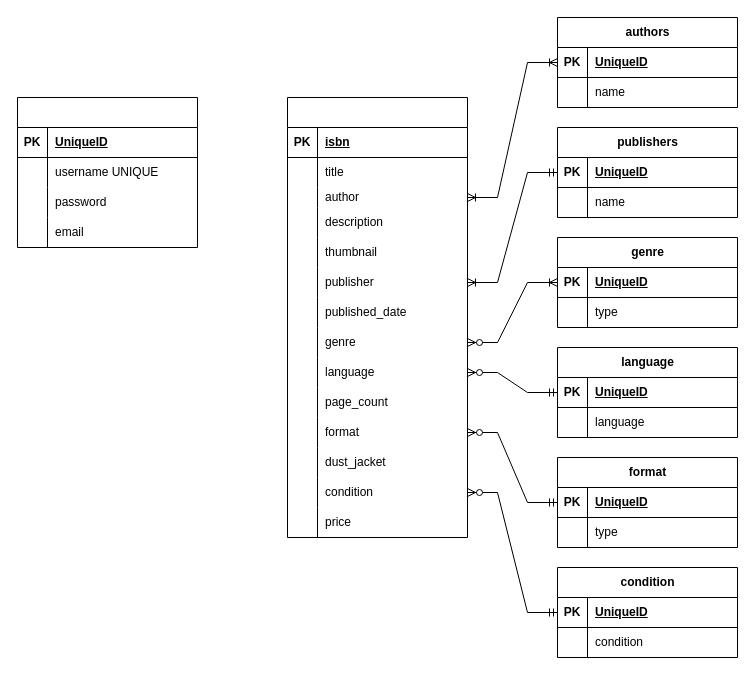
Image size: 755x675. Some labels were removed from this diagram. Here are the shapes that lost their labels. From the top down, the box of each, then its label:
(16, 96, 198, 248): users
(286, 96, 468, 538): books
